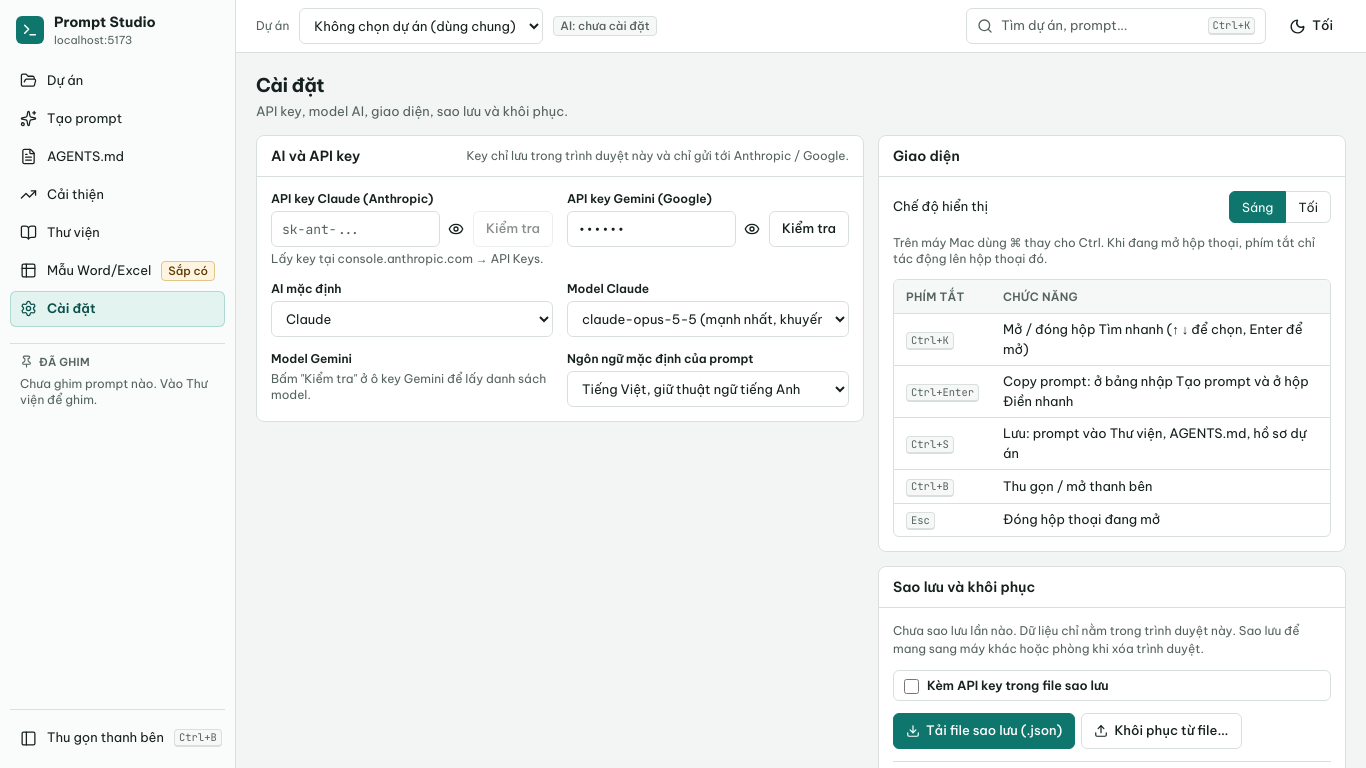
Test case: Cài đặt › kiểm tra key Gemini thì lấy danh sách model, tự chọn 3.8 Flash nếu có
Expected: the text "Bấm \"Kiểm tra\" ở ô key Gemini để lấy danh sách model." is shown, [271,371,553,403]
What coordinates should you click on to do the following:
click the button "Kiểm tra" below "API key Gemini (Google)"
I would click on:
 (809, 229)
Its box is [769,211,849,247].
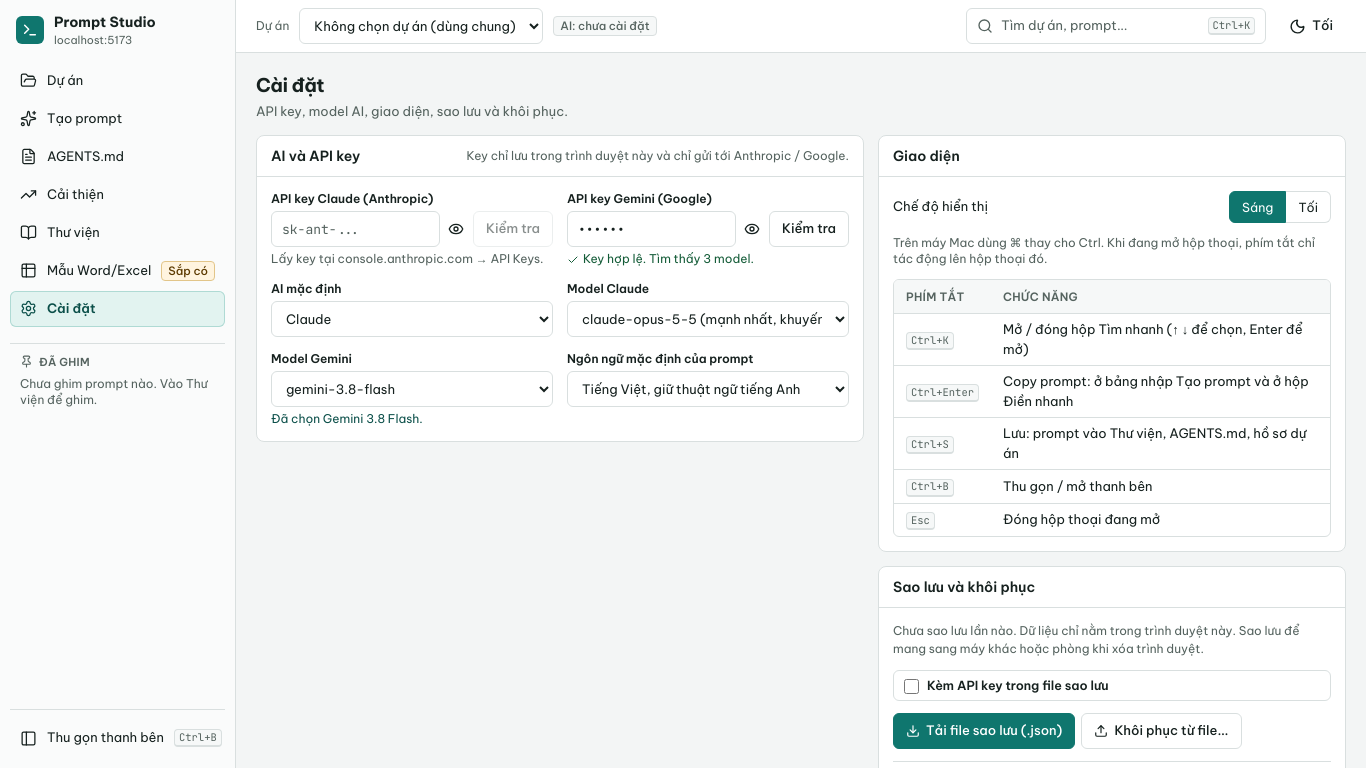
Result: the text "Đã chọn Gemini 3.8 Flash." is shown at [271,411,423,426]
Result: the dropdown labelled "Model Gemini" shows "gemini-3.8-flash" at [271,371,553,407]
